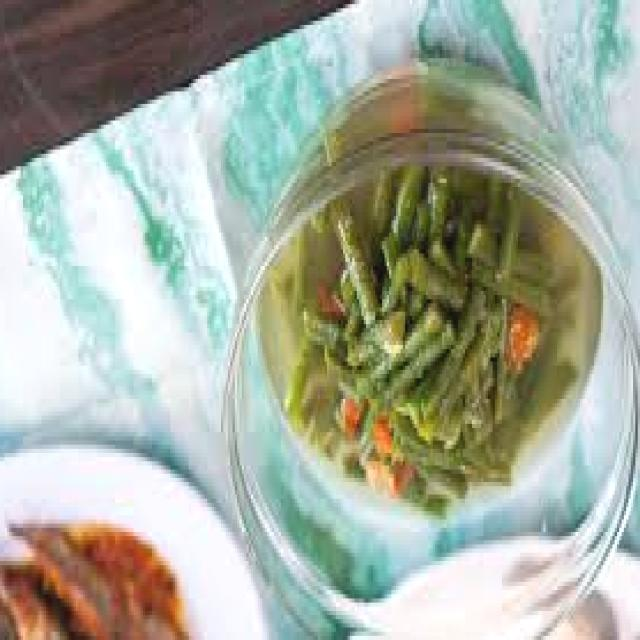kacang_panjang: (279, 174, 558, 531)
